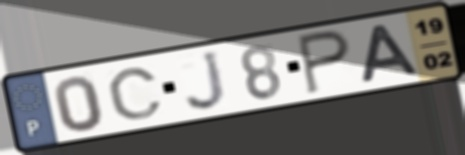0: (50, 72, 107, 135)
8: (238, 43, 284, 101)
A: (358, 22, 422, 86)
C: (105, 66, 166, 122)
J: (183, 48, 231, 113)
P: (295, 28, 354, 97)
